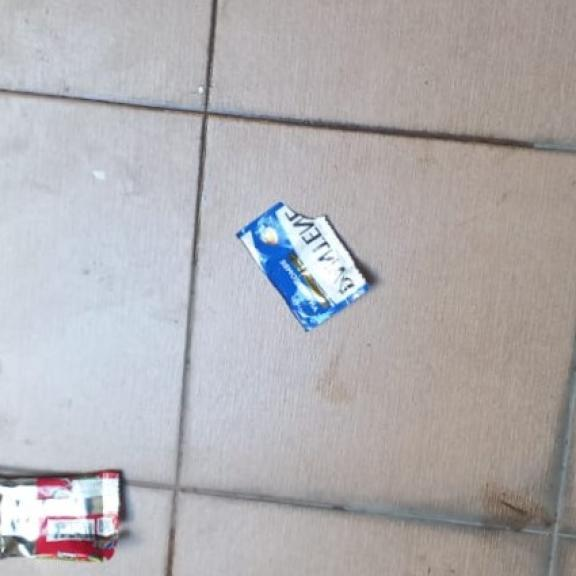Plastik: (235, 202, 369, 335), (0, 468, 122, 565)
